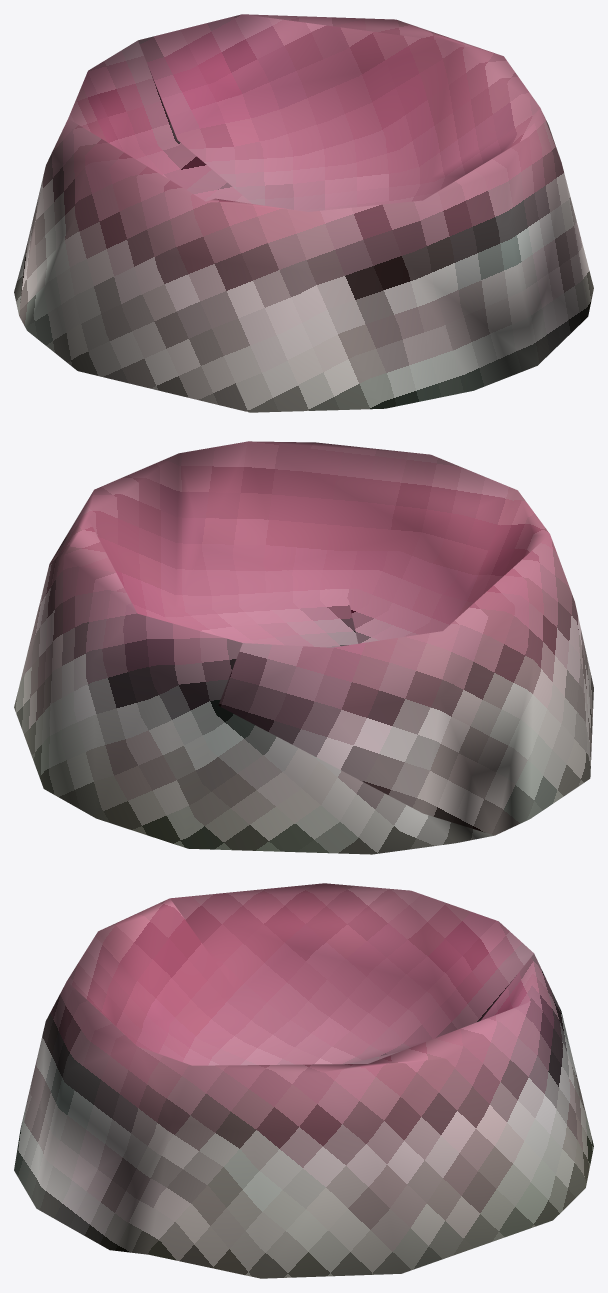
Rendered from Top_Paw_Dog_Bow_Bone_Ceramic_13_fl_oz_total-low.glb.
3 views of the same model, one above another, from view 1: azimuth 30°, elevation 25°; view 2: azimuth 150°, elevation 25°; view 3: azimuth 270°, elevation 25° (orthographic). The views are drawn at different scales.
Parts seen in each view (by area): view 1: Top_Paw_Dog_Bow_Bone_Ceramic_13_fl_oz_total; view 2: Top_Paw_Dog_Bow_Bone_Ceramic_13_fl_oz_total; view 3: Top_Paw_Dog_Bow_Bone_Ceramic_13_fl_oz_total.
Boxes of the visible parts, <box> form: Top_Paw_Dog_Bow_Bone_Ceramic_13_fl_oz_total: <box>14,14,593,412</box>; Top_Paw_Dog_Bow_Bone_Ceramic_13_fl_oz_total: <box>14,441,593,854</box>; Top_Paw_Dog_Bow_Bone_Ceramic_13_fl_oz_total: <box>14,883,593,1278</box>.
Size of the model in its own units: 0.1824 by 0.0669 by 0.1846.
1 material, 1 textured.
